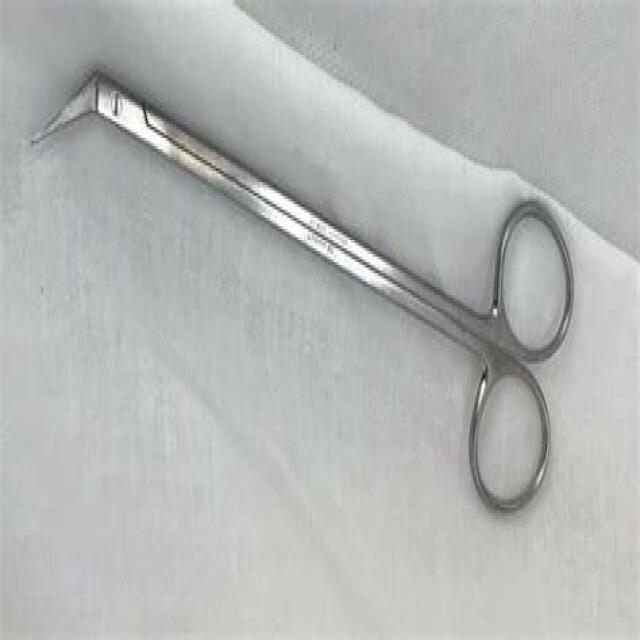Potts: (33, 52, 580, 541)
